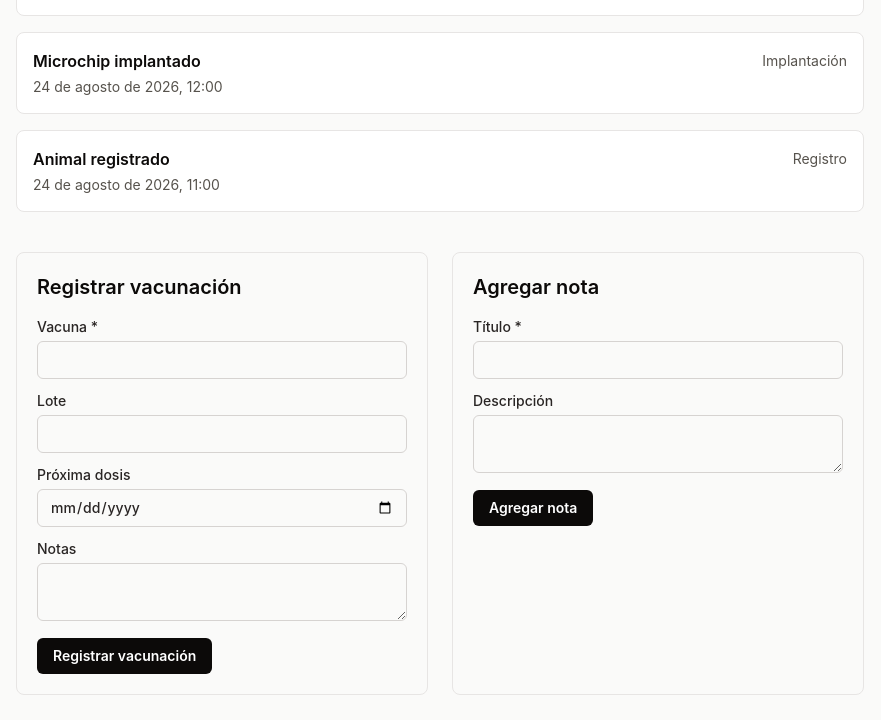
Scenario: AnimalProfilePage › keeps vaccination input and shows a safe error when its write fails
(page scrolled)
In the field labelled "Vacuna *": (222, 360) [37, 341, 407, 379], type "Rabia"
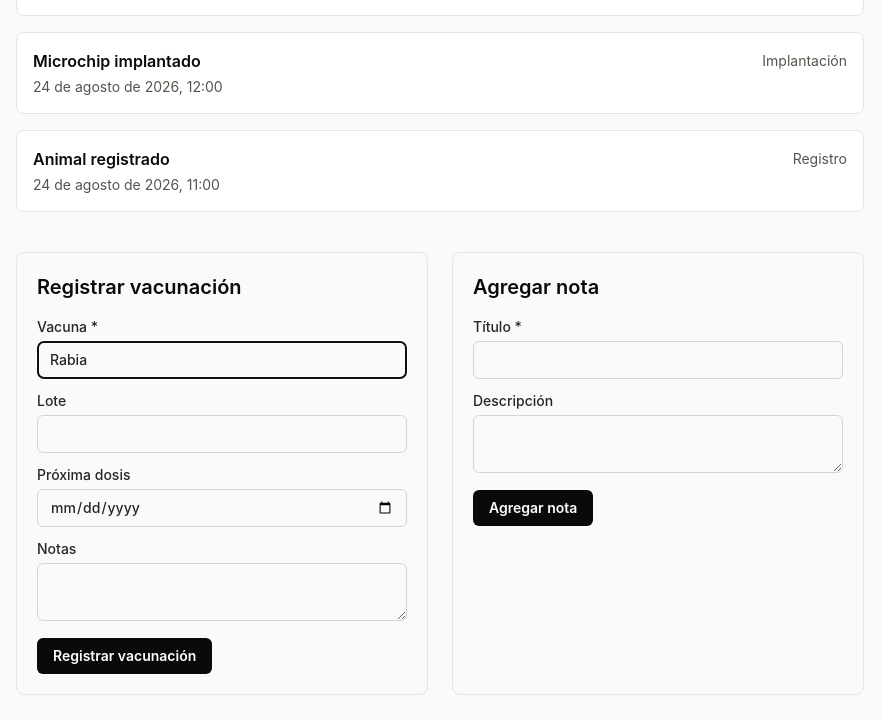
Click the button "Registrar vacunación": click(125, 656) [37, 638, 212, 674]
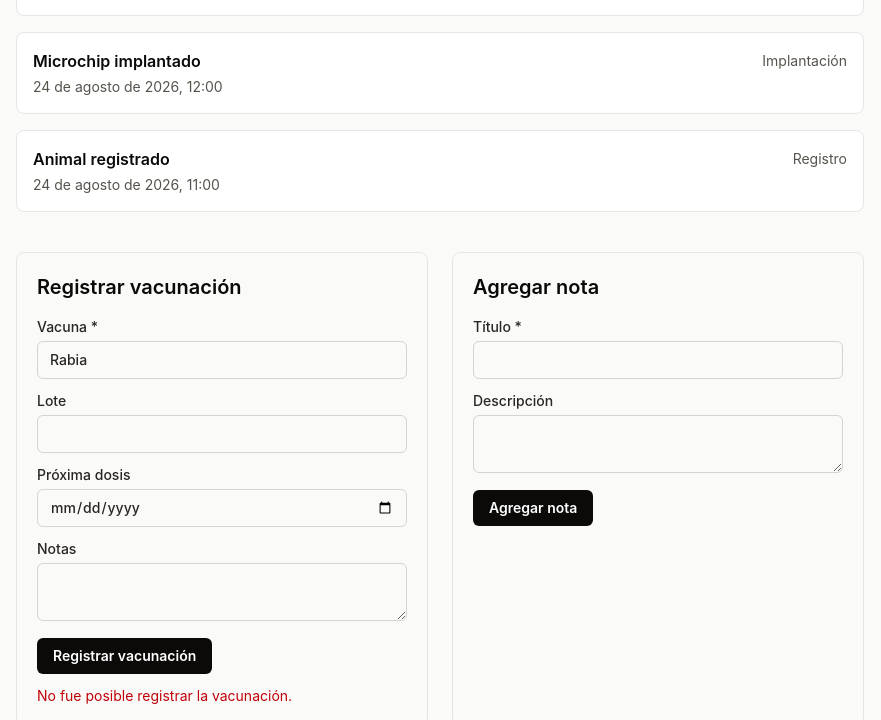
Now the message reads "No fue posible registrar la vacunación.", box [37, 687, 292, 704]
